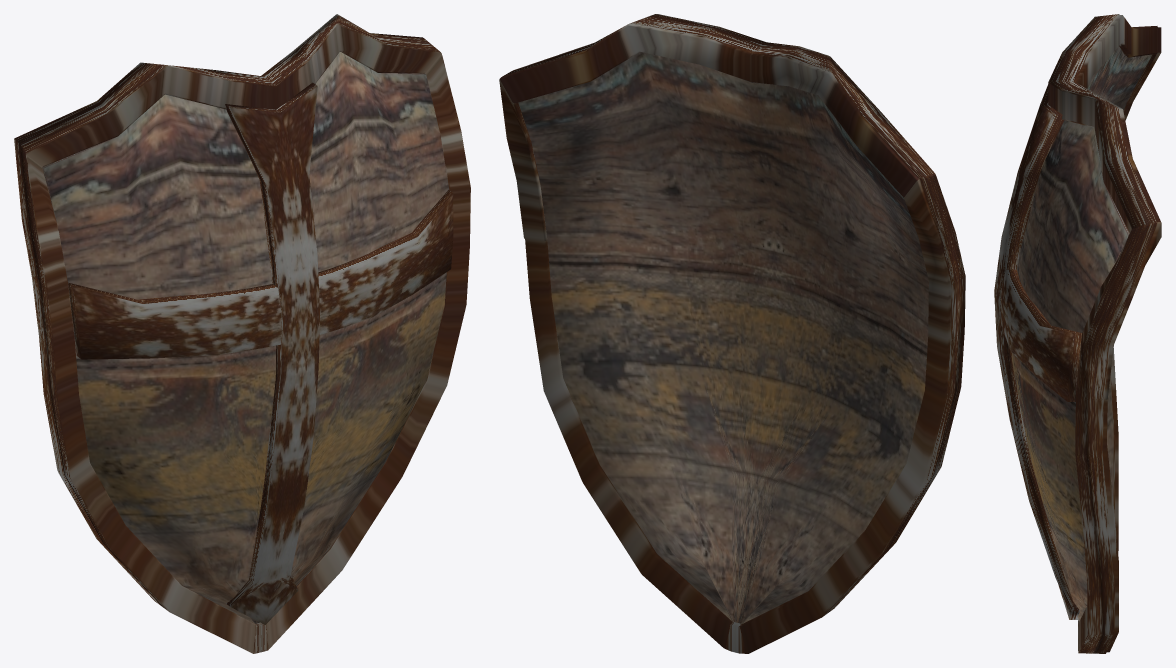
Rendered from EscudoTerm.glb.
3 views of the same model, side by side, from view 1: azimuth 30°, elevation 25°; view 2: azimuth 150°, elevation 25°; view 3: azimuth 270°, elevation 25° (orthographic). The views are drawn at different scales.
Visible parts, largest first — view 1: Base, Contorno, Cruz; view 2: Base, Contorno; view 3: Base, Contorno, Cruz.
Boxes of the visible parts, <box> form: Base: <box>42,52,449,623</box>; Contorno: <box>14,14,470,653</box>; Cruz: <box>68,82,453,624</box>; Base: <box>518,52,928,623</box>; Contorno: <box>499,14,965,653</box>; Base: <box>1012,46,1151,621</box>; Contorno: <box>1048,14,1161,653</box>; Cruz: <box>994,84,1082,619</box>.
Bounding box in the file's own units: 6.7 × 9.08 × 2.33.
3 materials, 3 textured.
